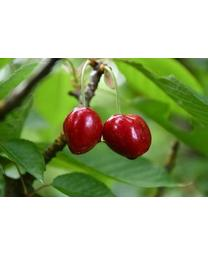cherry: (104, 113, 152, 160), (63, 107, 103, 156)
